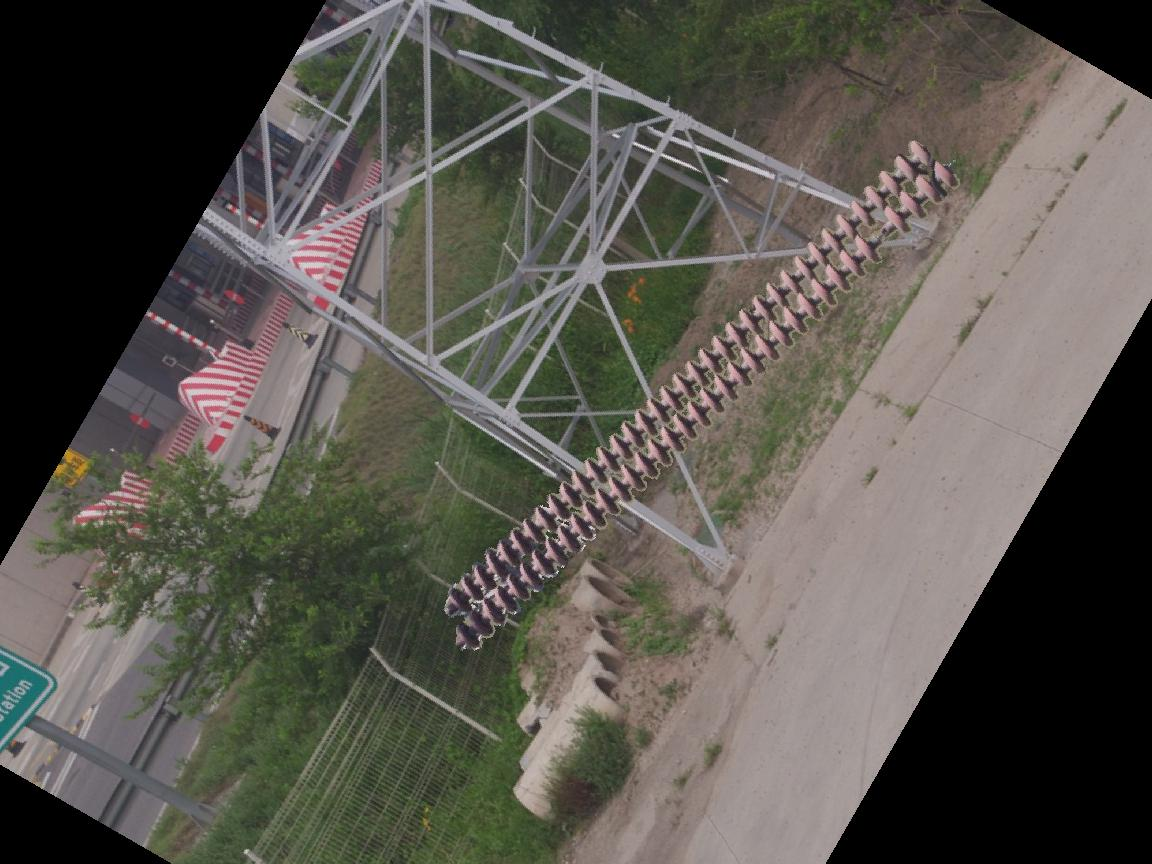insulator: (433, 134, 958, 661)
insulator_stringdrop: (852, 204, 911, 267)
